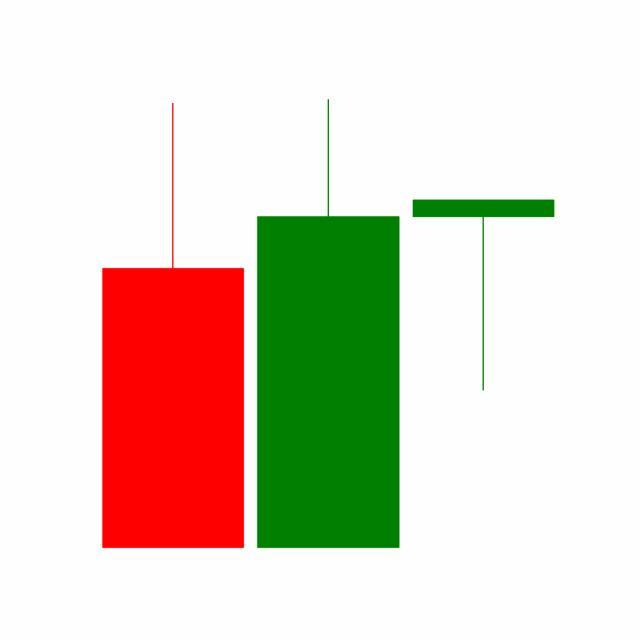Dragonfly Doji: (406, 198, 562, 394)
